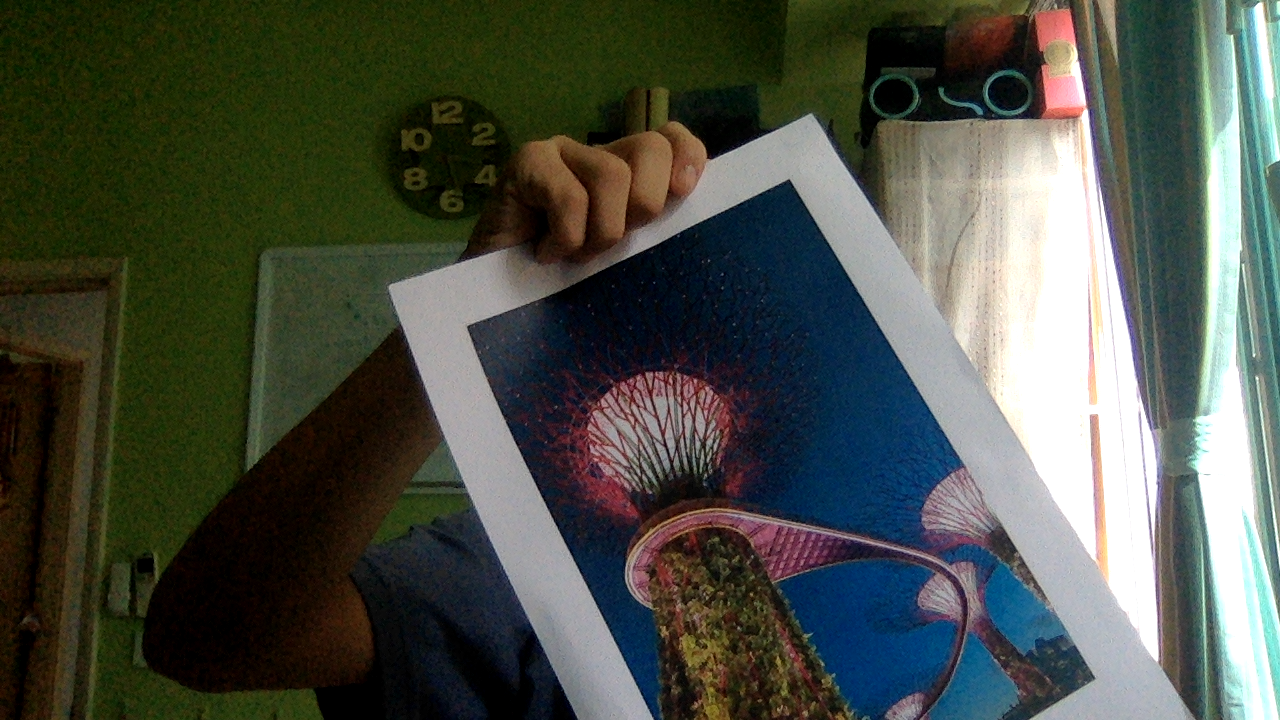GBTB: (466, 175, 1096, 720)
